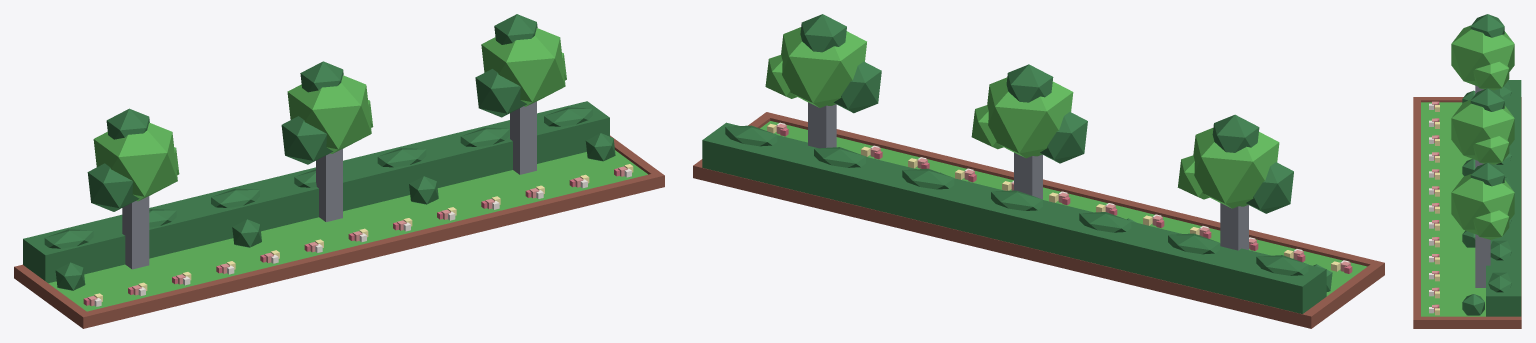
File: CatCafe_Square_GardenEnd.glb
3 views of the same model, side by side, from view 1: azimuth 30°, elevation 25°; view 2: azimuth 150°, elevation 25°; view 3: azimuth 270°, elevation 25° (orthographic). The views are drawn at different scales.
Visible parts, largest first — view 1: CatCafe_Square_GardenEnd, CatCafe_Square_GardenEnd_Barrier, CatCafe_Square_GardenEnd_Tops_Decor, CatCafe_Square_GardenEnd_Flowers; view 2: CatCafe_Square_GardenEnd, CatCafe_Square_GardenEnd_Tops_Decor, CatCafe_Square_GardenEnd_Barrier, CatCafe_Square_GardenEnd_Flowers; view 3: CatCafe_Square_GardenEnd, CatCafe_Square_GardenEnd_Flowers, CatCafe_Square_GardenEnd_Tops_Decor, CatCafe_Square_GardenEnd_Barrier.
Boxes of the visible parts, bbox=[...] form: CatCafe_Square_GardenEnd: bbox=[14, 14, 664, 328]; CatCafe_Square_GardenEnd_Barrier: bbox=[122, 101, 536, 269]; CatCafe_Square_GardenEnd_Tops_Decor: bbox=[44, 107, 592, 248]; CatCafe_Square_GardenEnd_Flowers: bbox=[83, 164, 633, 306]; CatCafe_Square_GardenEnd: bbox=[693, 14, 1384, 328]; CatCafe_Square_GardenEnd_Tops_Decor: bbox=[725, 125, 1308, 275]; CatCafe_Square_GardenEnd_Barrier: bbox=[808, 102, 1248, 250]; CatCafe_Square_GardenEnd_Flowers: bbox=[767, 122, 1352, 273]; CatCafe_Square_GardenEnd: bbox=[1413, 14, 1521, 328]; CatCafe_Square_GardenEnd_Flowers: bbox=[1429, 101, 1439, 315]; CatCafe_Square_GardenEnd_Tops_Decor: bbox=[1488, 81, 1511, 292]; CatCafe_Square_GardenEnd_Barrier: bbox=[1475, 85, 1490, 287].
Bounding box in the file's own units: 34 × 9.1 × 7.
1 material, 1 textured.
